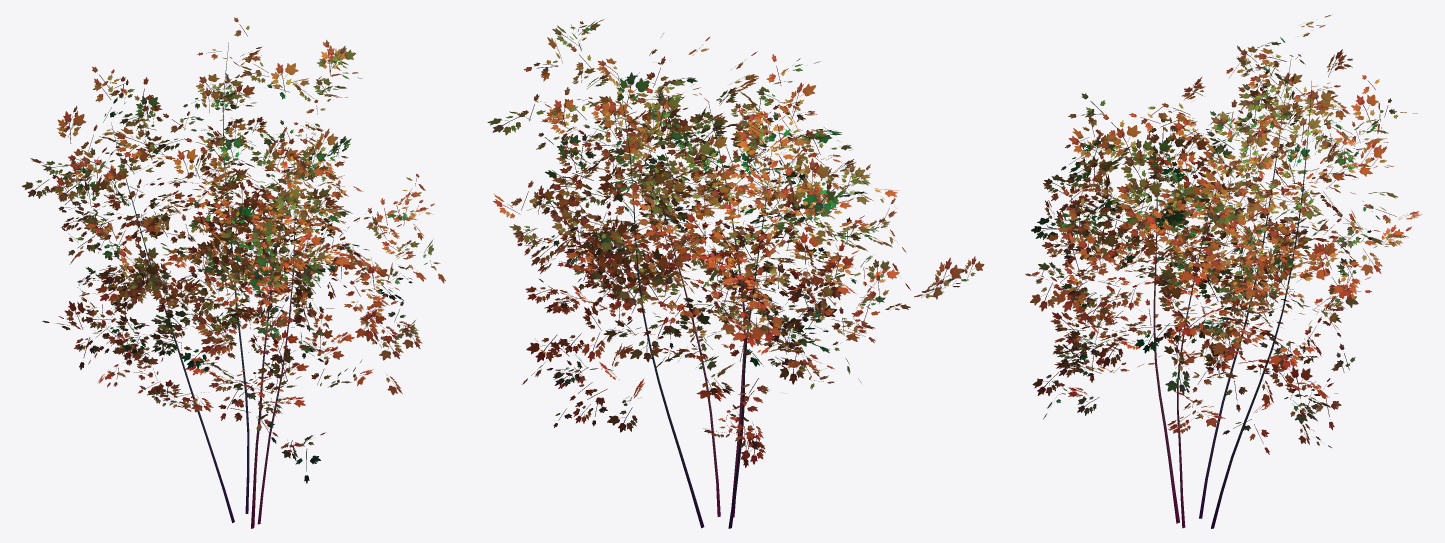
3 renders of one model, left to right at view 1: azimuth 30°, elevation 25°; view 2: azimuth 150°, elevation 25°; view 3: azimuth 270°, elevation 25°, orthographic. The views are drawn at different scales.
Visible parts, largest first — view 1: rocky_mountain_maple_LOD1; view 2: rocky_mountain_maple_LOD1; view 3: rocky_mountain_maple_LOD1.
Part boxes in pixels (bbox=[...]): rocky_mountain_maple_LOD1: bbox=[21, 17, 445, 528]; rocky_mountain_maple_LOD1: bbox=[487, 19, 984, 528]; rocky_mountain_maple_LOD1: bbox=[1025, 14, 1421, 528].
Size of the model in its own units: 5.61 by 6.8 by 5.36.
Materials: 2 (2 with a texture image).
